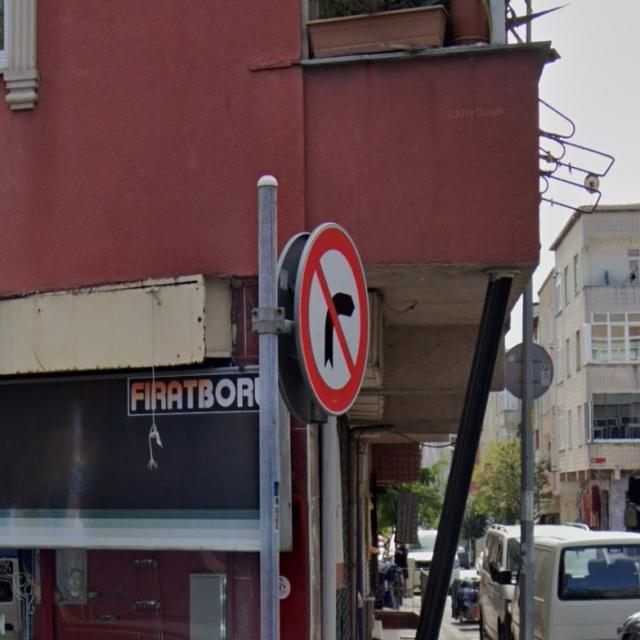sagadonulmez: (298, 221, 370, 415)
